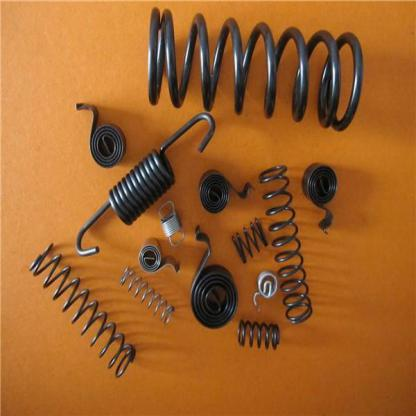FOD: (146, 4, 365, 134), (74, 109, 216, 261), (27, 239, 137, 381), (258, 161, 313, 327), (188, 223, 240, 331), (74, 99, 128, 170), (119, 264, 176, 326), (301, 160, 339, 236), (197, 167, 254, 214), (230, 215, 268, 267), (137, 238, 181, 276), (237, 316, 282, 352), (158, 199, 186, 249), (250, 269, 278, 308)
